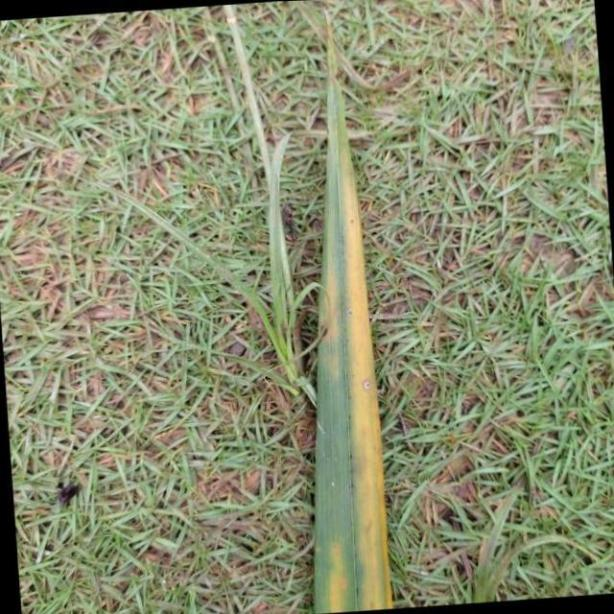Megnesium: (310, 0, 395, 614)
